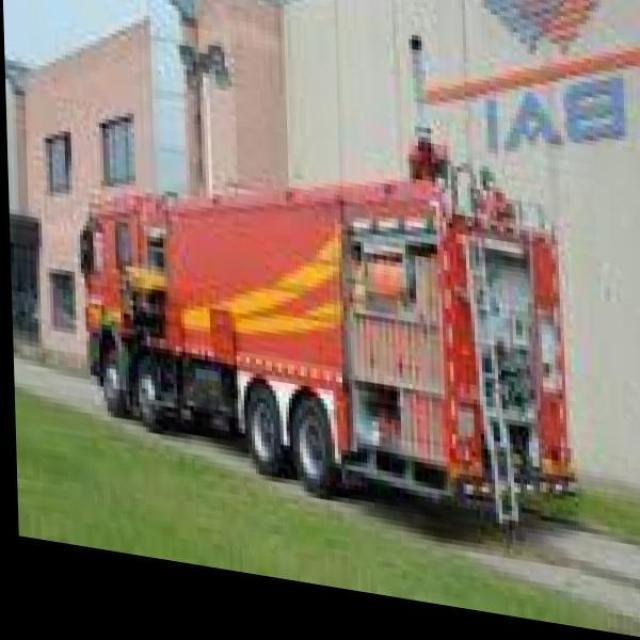emergency: (78, 163, 578, 517)
